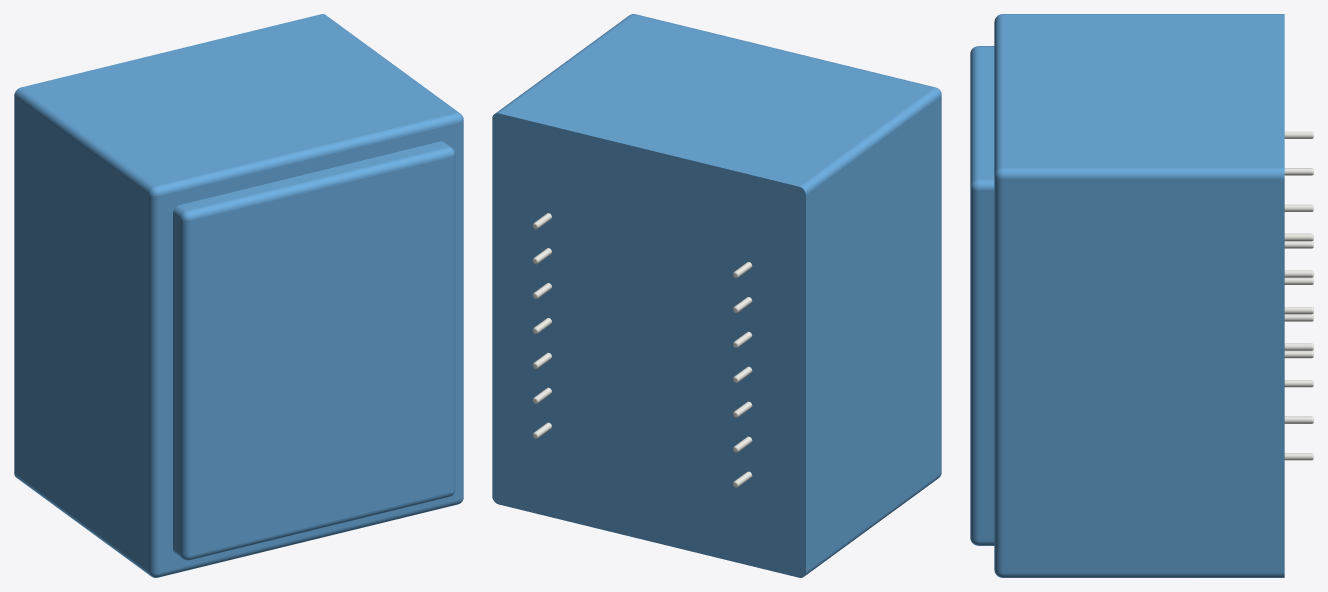
Rendered from Transformer_CHK_EI54-12VA_Neutral.glb.
The picture shows the model from 3 angles, left to right: view 1: azimuth 30°, elevation 25°; view 2: azimuth 150°, elevation 25°; view 3: azimuth 270°, elevation 25°; orthographic projection. The views are drawn at different scales.
Visible parts, largest first — view 1: Shape_IndexedFaceSet.059, Shape_IndexedFaceSet.085, Shape_IndexedFaceSet.082, Shape_IndexedFaceSet.063, Shape_IndexedFaceSet.072, Shape_IndexedFaceSet.066, Shape_IndexedFaceSet.070, Shape_IndexedFaceSet.065, Shape_IndexedFaceSet.073, Shape_IndexedFaceSet.075, Shape_IndexedFaceSet.089, Shape_IndexedFaceSet.061 (+3 smaller); view 2: Shape_IndexedFaceSet.088, Shape_IndexedFaceSet.085, Shape_IndexedFaceSet.082, Shape_IndexedFaceSet.089, Shape_IndexedFaceSet.072; view 3: Shape_IndexedFaceSet.079, Shape_IndexedFaceSet.082, Shape_IndexedFaceSet.068, Shape_IndexedFaceSet.069, Shape_IndexedFaceSet.061, Shape_IndexedFaceSet.086, Shape_IndexedFaceSet.075, Shape_IndexedFaceSet.087, Shape_IndexedFaceSet.070, Shape_IndexedFaceSet.065.
Part boxes in pixels (box(x1,y1,x2,y2)): Shape_IndexedFaceSet.059: box(191, 157, 451, 555); Shape_IndexedFaceSet.085: box(14, 96, 148, 571); Shape_IndexedFaceSet.082: box(21, 14, 455, 185); Shape_IndexedFaceSet.063: box(159, 123, 459, 572); Shape_IndexedFaceSet.072: box(149, 195, 159, 573); Shape_IndexedFaceSet.066: box(180, 219, 191, 556); Shape_IndexedFaceSet.070: box(156, 113, 459, 195); Shape_IndexedFaceSet.065: box(187, 147, 451, 220); Shape_IndexedFaceSet.073: box(173, 214, 180, 554); Shape_IndexedFaceSet.075: box(180, 141, 447, 210); Shape_IndexedFaceSet.089: box(14, 87, 155, 194); Shape_IndexedFaceSet.061: box(451, 155, 455, 491); Shape_IndexedFaceSet.088: box(492, 113, 805, 577); Shape_IndexedFaceSet.085: box(806, 97, 940, 571); Shape_IndexedFaceSet.082: box(499, 15, 933, 186); Shape_IndexedFaceSet.089: box(799, 88, 940, 194); Shape_IndexedFaceSet.072: box(940, 96, 941, 473); Shape_IndexedFaceSet.079: box(1002, 178, 1284, 573); Shape_IndexedFaceSet.082: box(1002, 14, 1284, 167); Shape_IndexedFaceSet.068: box(978, 190, 994, 541); Shape_IndexedFaceSet.069: box(994, 176, 1002, 573); Shape_IndexedFaceSet.061: box(970, 188, 978, 540); Shape_IndexedFaceSet.086: box(1002, 168, 1284, 178); Shape_IndexedFaceSet.075: box(978, 47, 994, 179); Shape_IndexedFaceSet.087: box(1002, 573, 1284, 577); Shape_IndexedFaceSet.070: box(994, 14, 1002, 174); Shape_IndexedFaceSet.065: box(970, 47, 978, 184).
Size of the model in its own units: 18.5 by 22.05 by 16.77.
